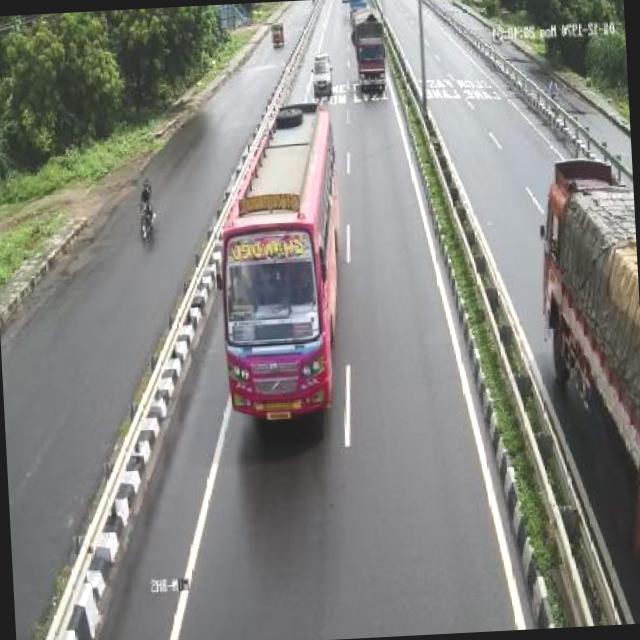car: (308, 49, 334, 102)
